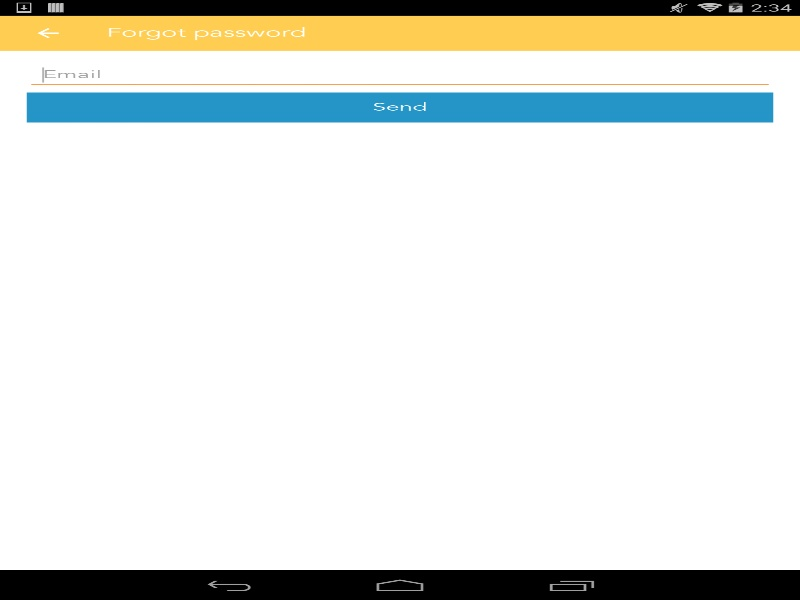Button: (26, 92, 773, 122), (10, 15, 85, 50)
Input: (26, 63, 773, 87)
